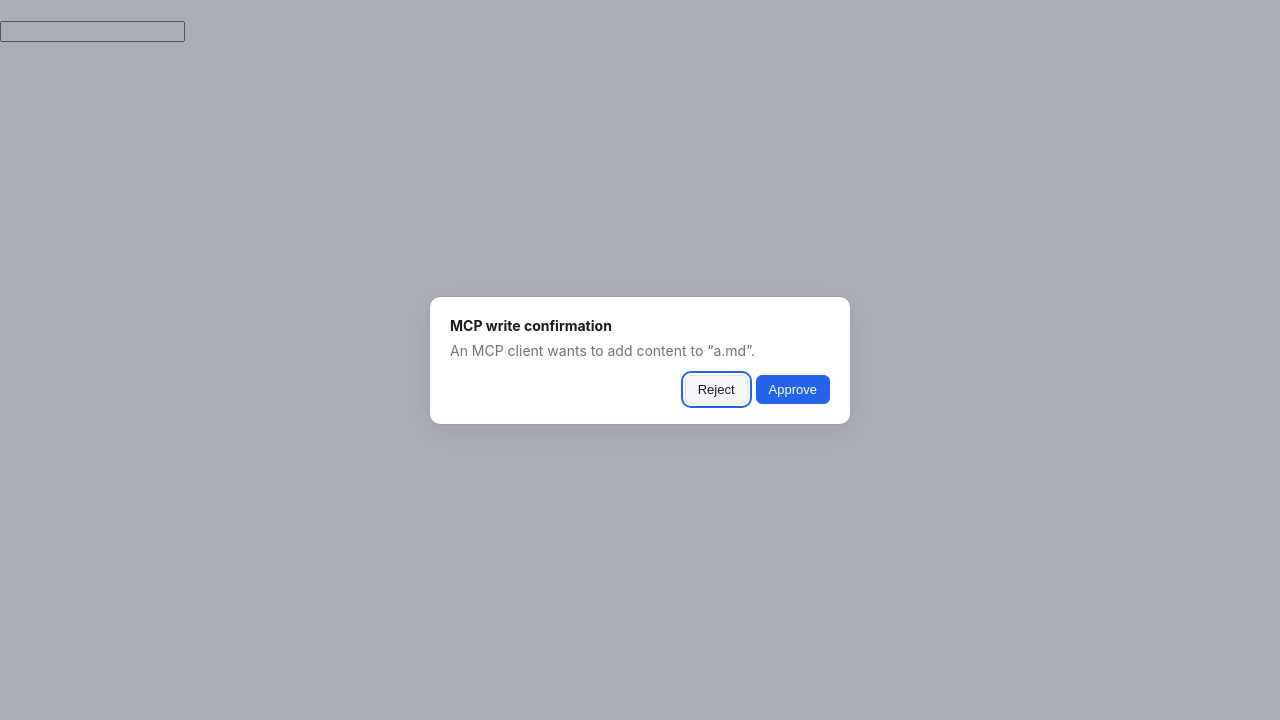
Test case: McpWriteConfirmDialog focus return (WI-6) › CF-4 round-trip: prior contenteditable × Reject
This screenshot has width=1280, height=720.
Click the button "Reject". click: (716, 389)
box: [685,374,748,404]
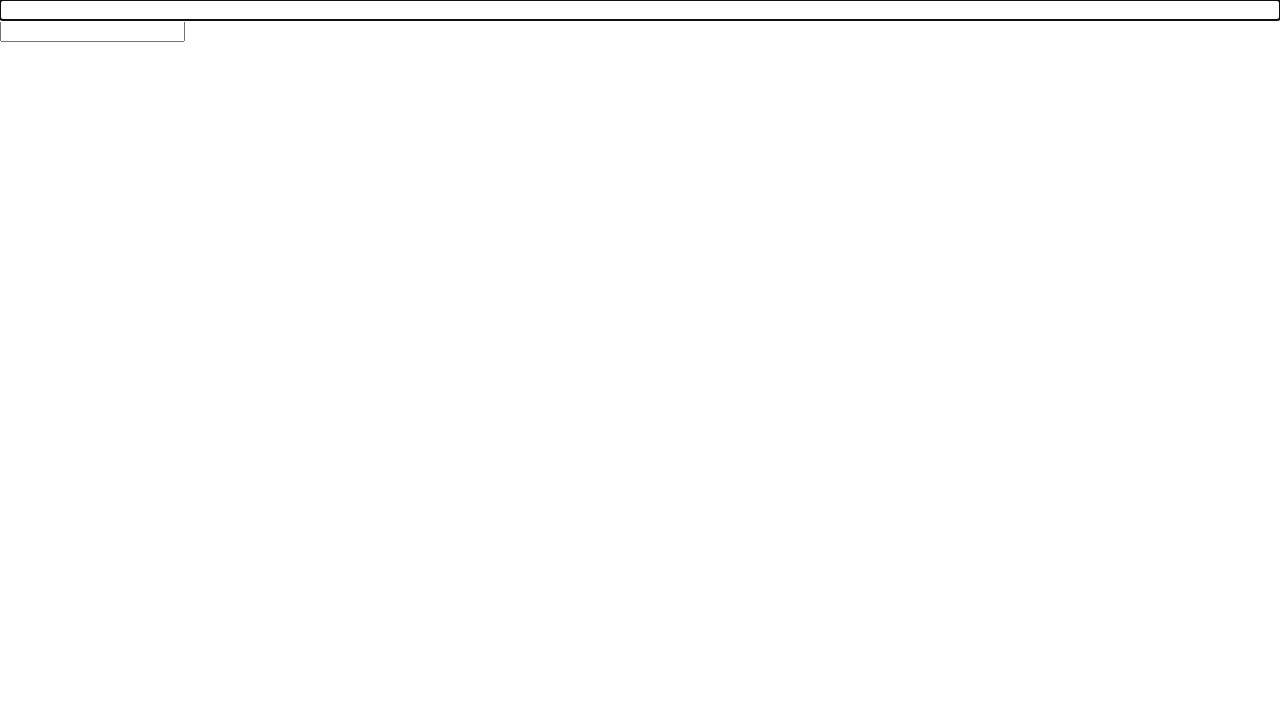
expect the dialog is gone: met
